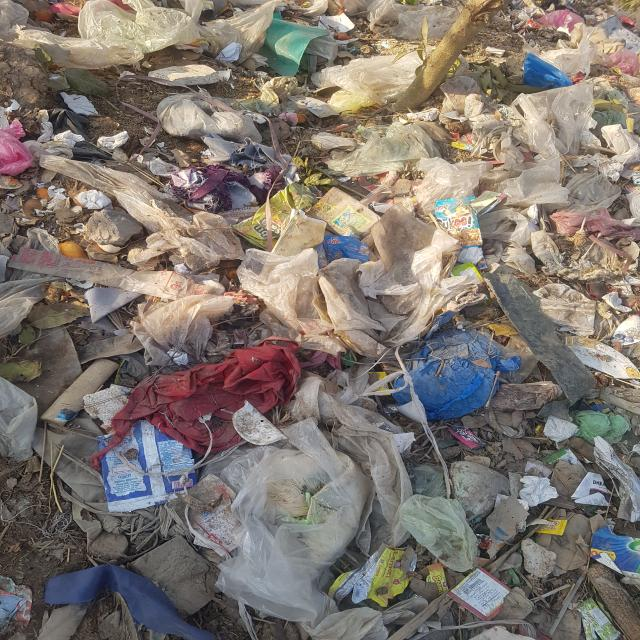electronic: (97, 418, 198, 513), (335, 539, 414, 603), (430, 188, 487, 246)
general: (410, 328, 512, 420), (162, 86, 266, 146), (314, 54, 432, 102)
